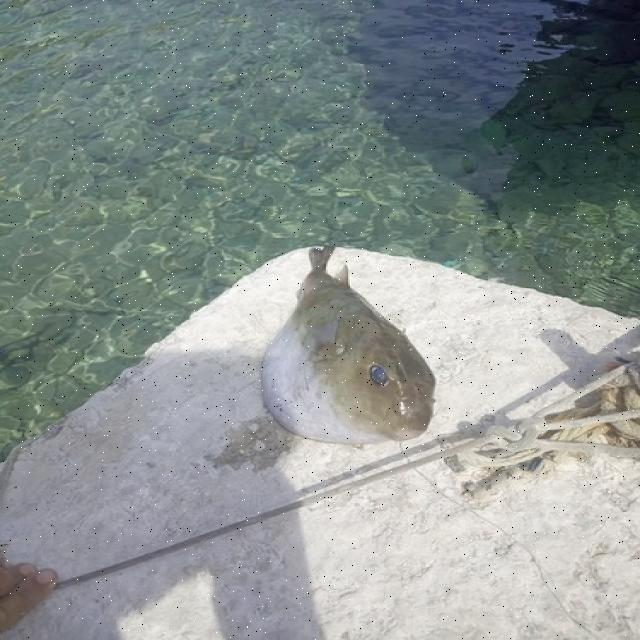Balik: (262, 248, 435, 444)
